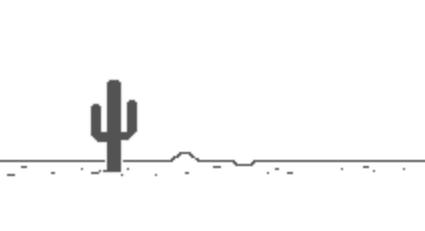cactus: (80, 73, 147, 180)
